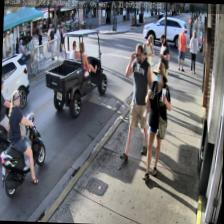person: (119, 42, 155, 163), (142, 61, 172, 180), (5, 90, 41, 184), (139, 34, 155, 106), (155, 33, 170, 101), (78, 40, 98, 74), (68, 40, 80, 65)
